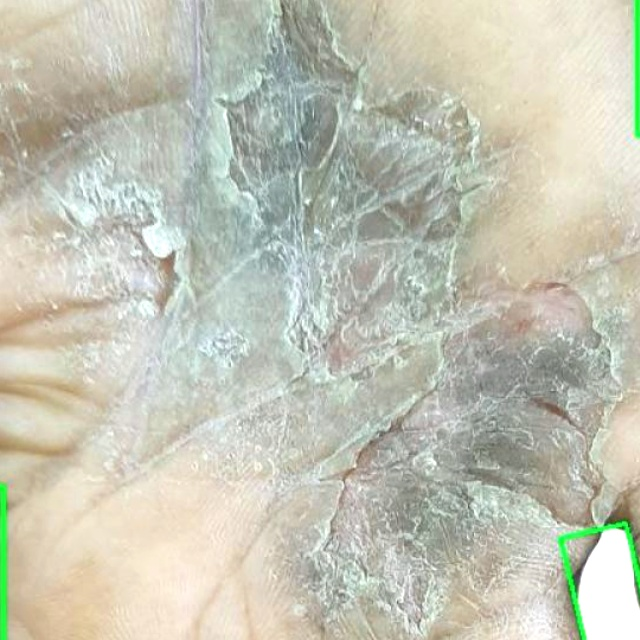Contact Dermatitis: (561, 523, 639, 639)
